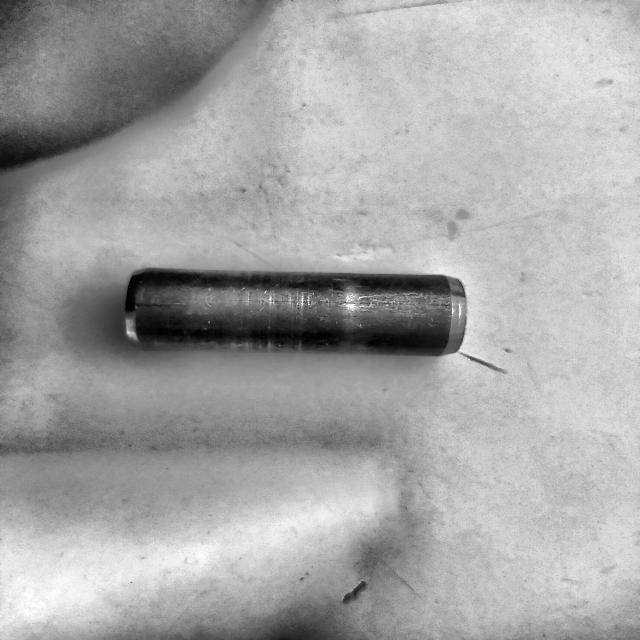Broken: (121, 262, 470, 362)
